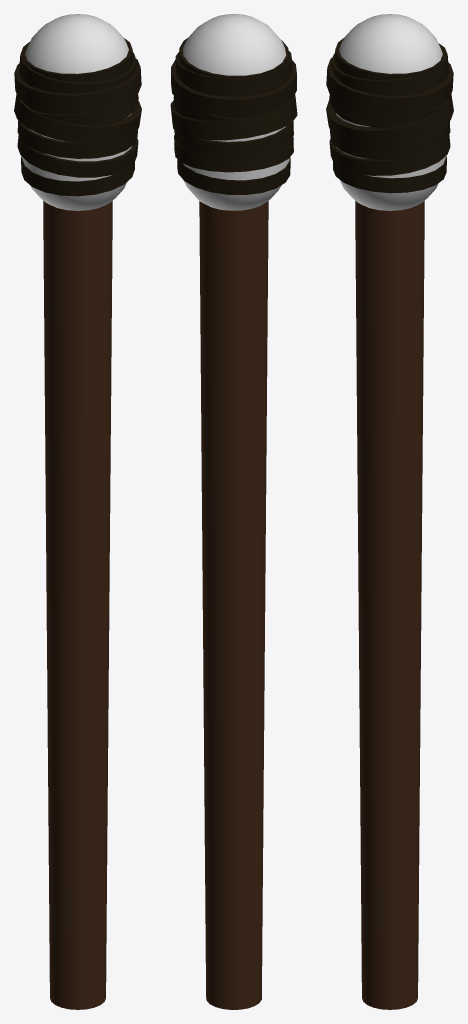
File: Torch.FBX
3 renders of one model, left to right at view 1: azimuth 90°, elevation 25°; view 2: azimuth 210°, elevation 25°; view 3: azimuth 270°, elevation 25°, orthographic.
Parts seen in each view (by area): view 1: Torch; view 2: Torch; view 3: Torch.
Part boxes in pixels (x1=…): Torch: x1=14, y1=14, x2=141, y2=1009; Torch: x1=170, y1=14, x2=297, y2=1009; Torch: x1=326, y1=14, x2=453, y2=1009.
Size of what is drawn, in the model's own units: 7.94 by 7.99 by 67.44.
